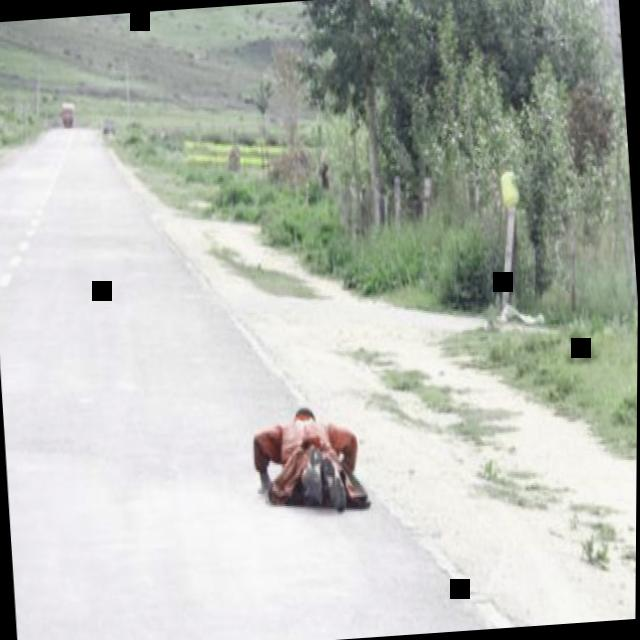Fall-Detected: (239, 384, 375, 526)
